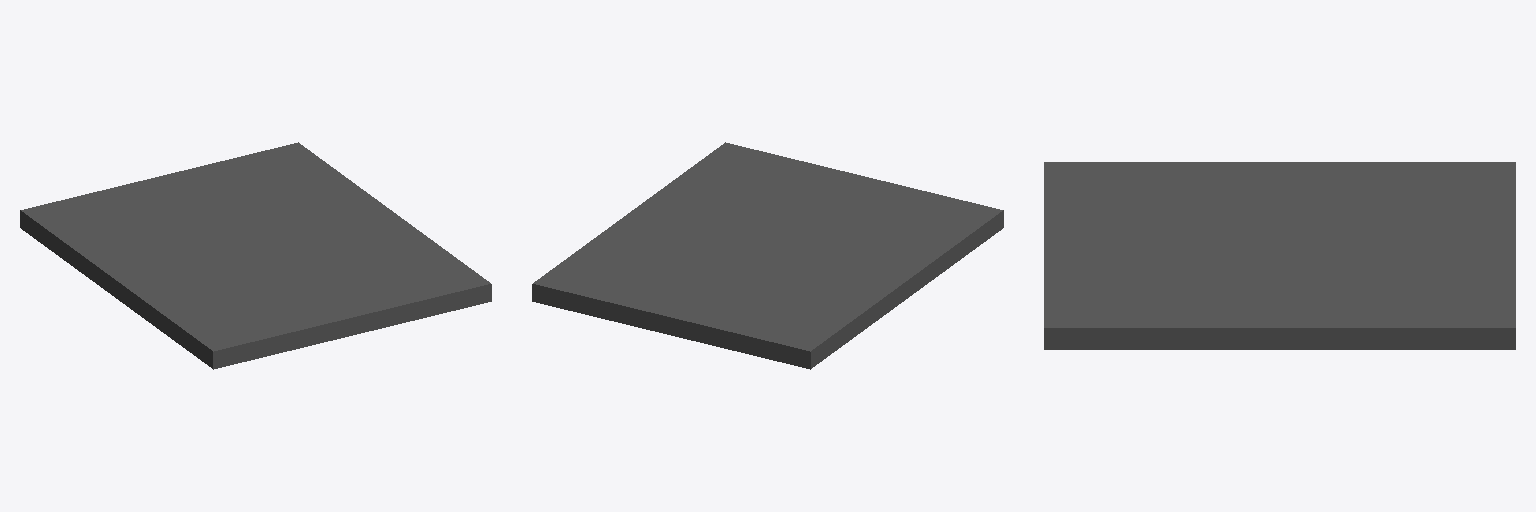
URDF robot description (shelf_lower):
<?xml version="1.0"?>
<robot name="shelf_lower">
    <material name="color">
        <color rgba="0.4 0.4 0.4 1"/>
    </material>
    <link name="base">
        <collision name="box_collision">
          <geometry>
            <box size="0.807 0.97 0.05"/>
          </geometry>
        </collision>
        <visual name="box_visual">
    			<origin xyz="0 0 0" rpy="0 0 0"/>
          <material name="color"/>

          <geometry>
              <box size="0.807 0.97 0.05"/>

          </geometry>
        </visual>
        <inertial>
			<mass value="0.3"/>
			<inertia ixx="0.6" ixy="0.0" ixz="0.0" iyy="0.5" iyz="-0.0" izz="0.08"/>
		</inertial>
      </link>
</robot>

--- Facts derived from the render (not from the file) ---
The picture shows the robot from 3 angles, left to right: view 1: azimuth 30°, elevation 25°; view 2: azimuth 150°, elevation 25°; view 3: azimuth 270°, elevation 25°; orthographic projection.
Model shelf_lower with 1 links and 0 joints (none), rooted at base, posed every joint at zero.
Visible links, largest first — view 1: base; view 2: base; view 3: base.
Link boxes in pixels (bbox=[...]): base: bbox=[20, 142, 491, 369]; base: bbox=[532, 142, 1003, 369]; base: bbox=[1044, 162, 1515, 349].
Bounding box of the posed robot: 0.807 × 0.97 × 0.05 m (x, y, z).
Geometry: primitives only (box / cylinder / sphere), no mesh files.